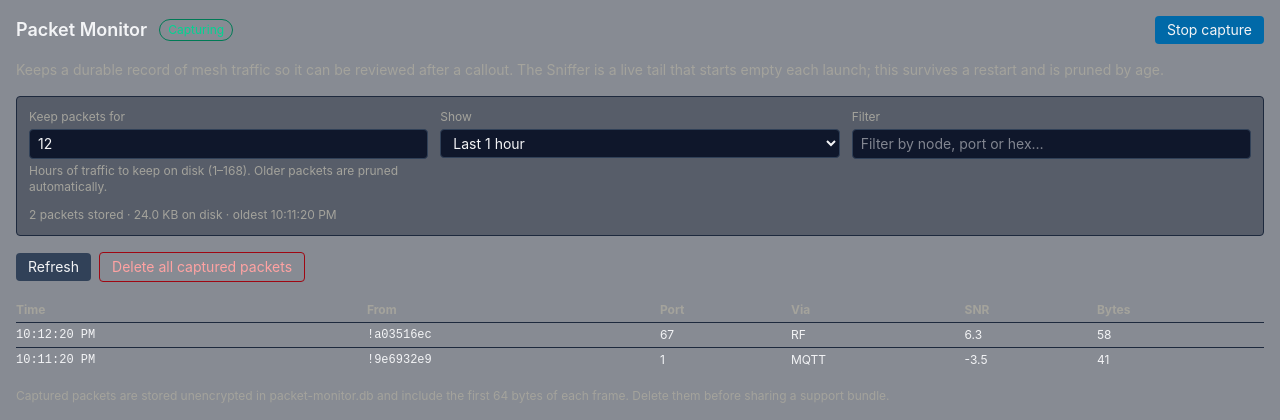
PacketMonitorPanel › filters the visible rows
Expected: the text "!a03516ec" is shown, x1=367 y1=322 x2=660 y2=348
Type "9e6932e9" into the search field labelled "Filter".
click(1051, 144); type("9e6932e9")  # box x1=852 y1=129 x2=1251 y2=159
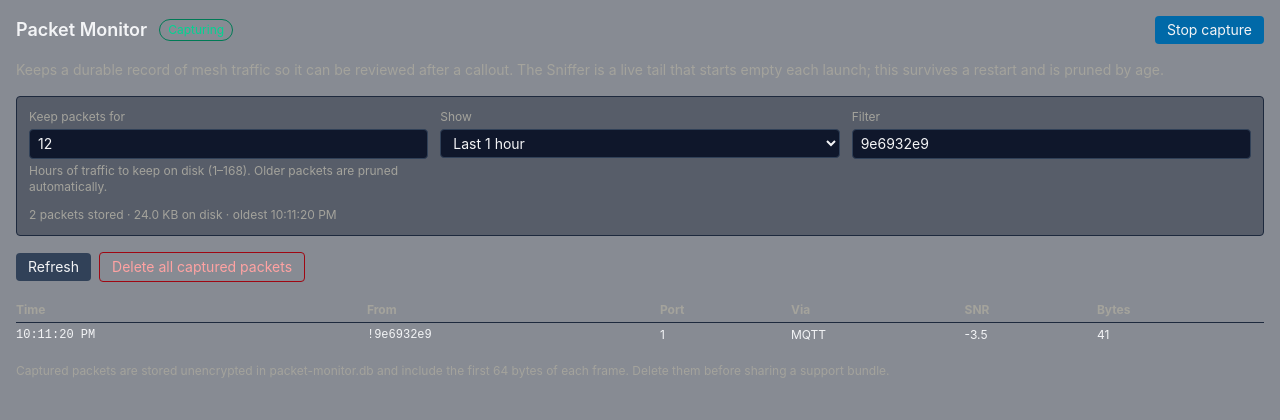
Expected: the text "!9e6932e9" is shown, x1=367 y1=322 x2=660 y2=347
Result: the text "!a03516ec" is gone
